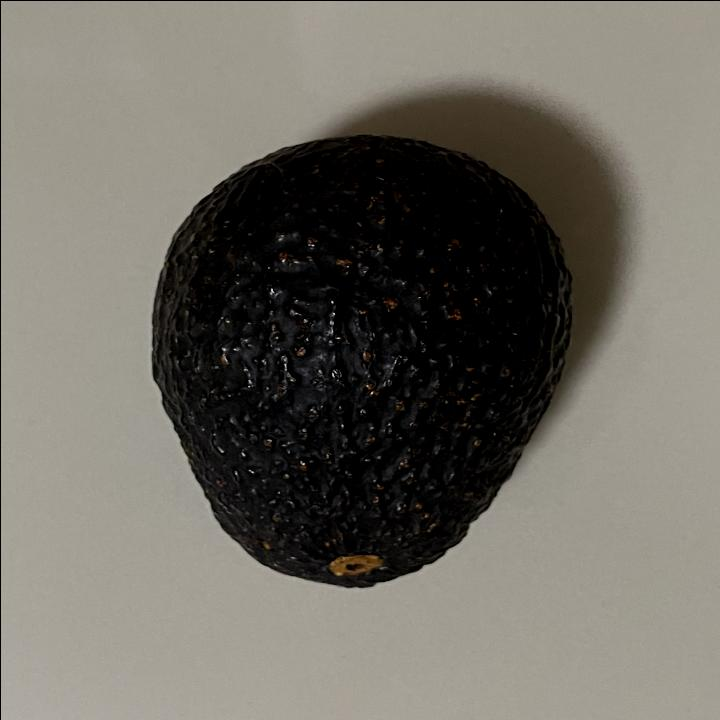Level3: (139, 129, 580, 599)
